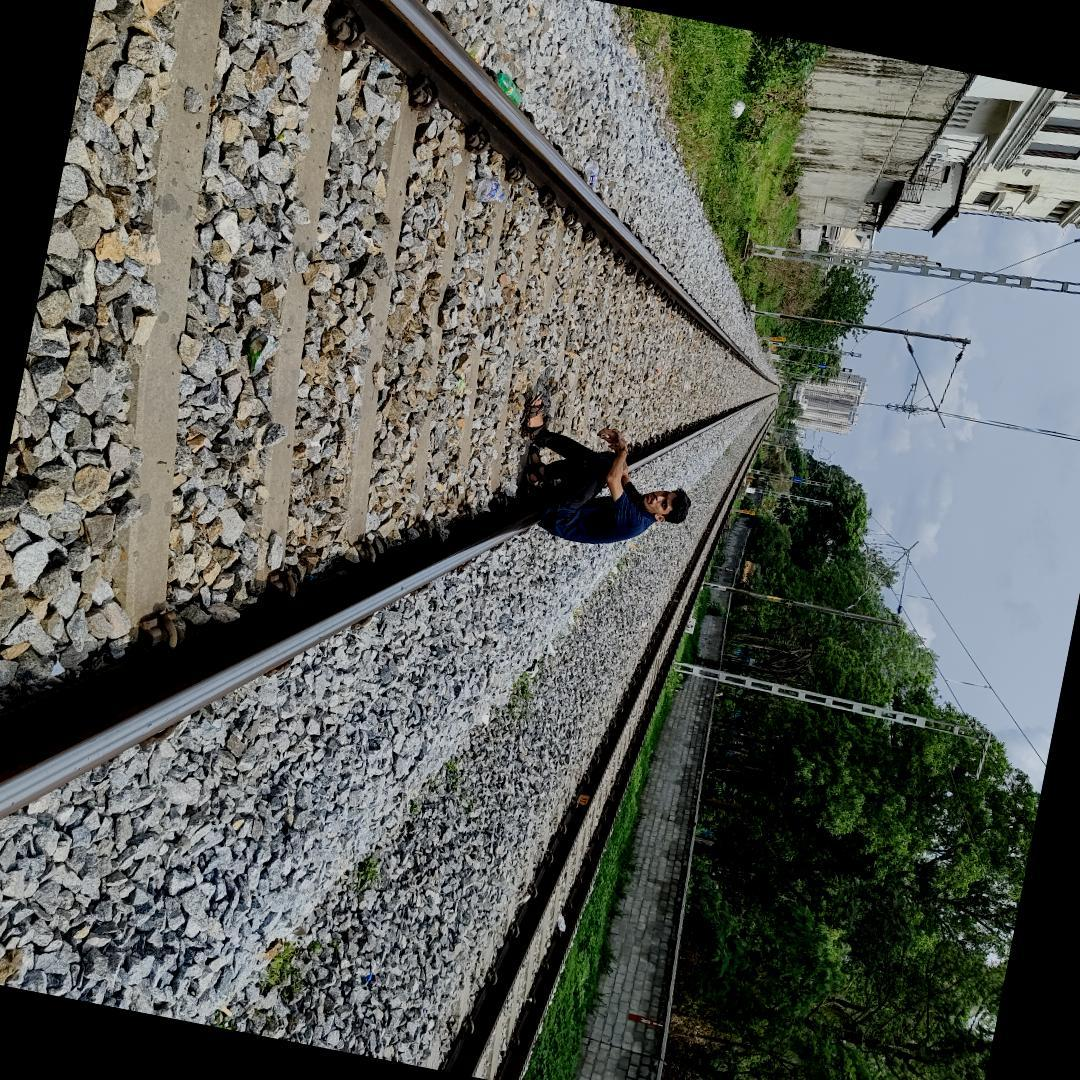sitting: (468, 365, 715, 582)
